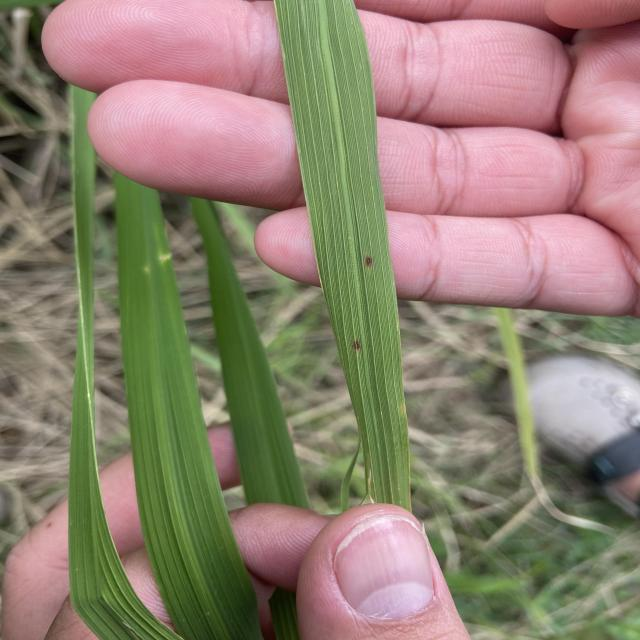Dao on: (352, 341, 361, 351), (365, 256, 373, 266)
